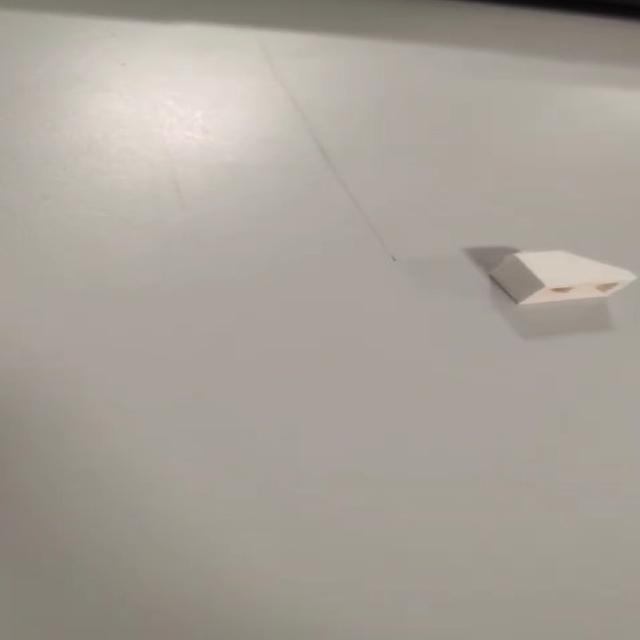P1x2x1: (488, 247, 640, 310)
